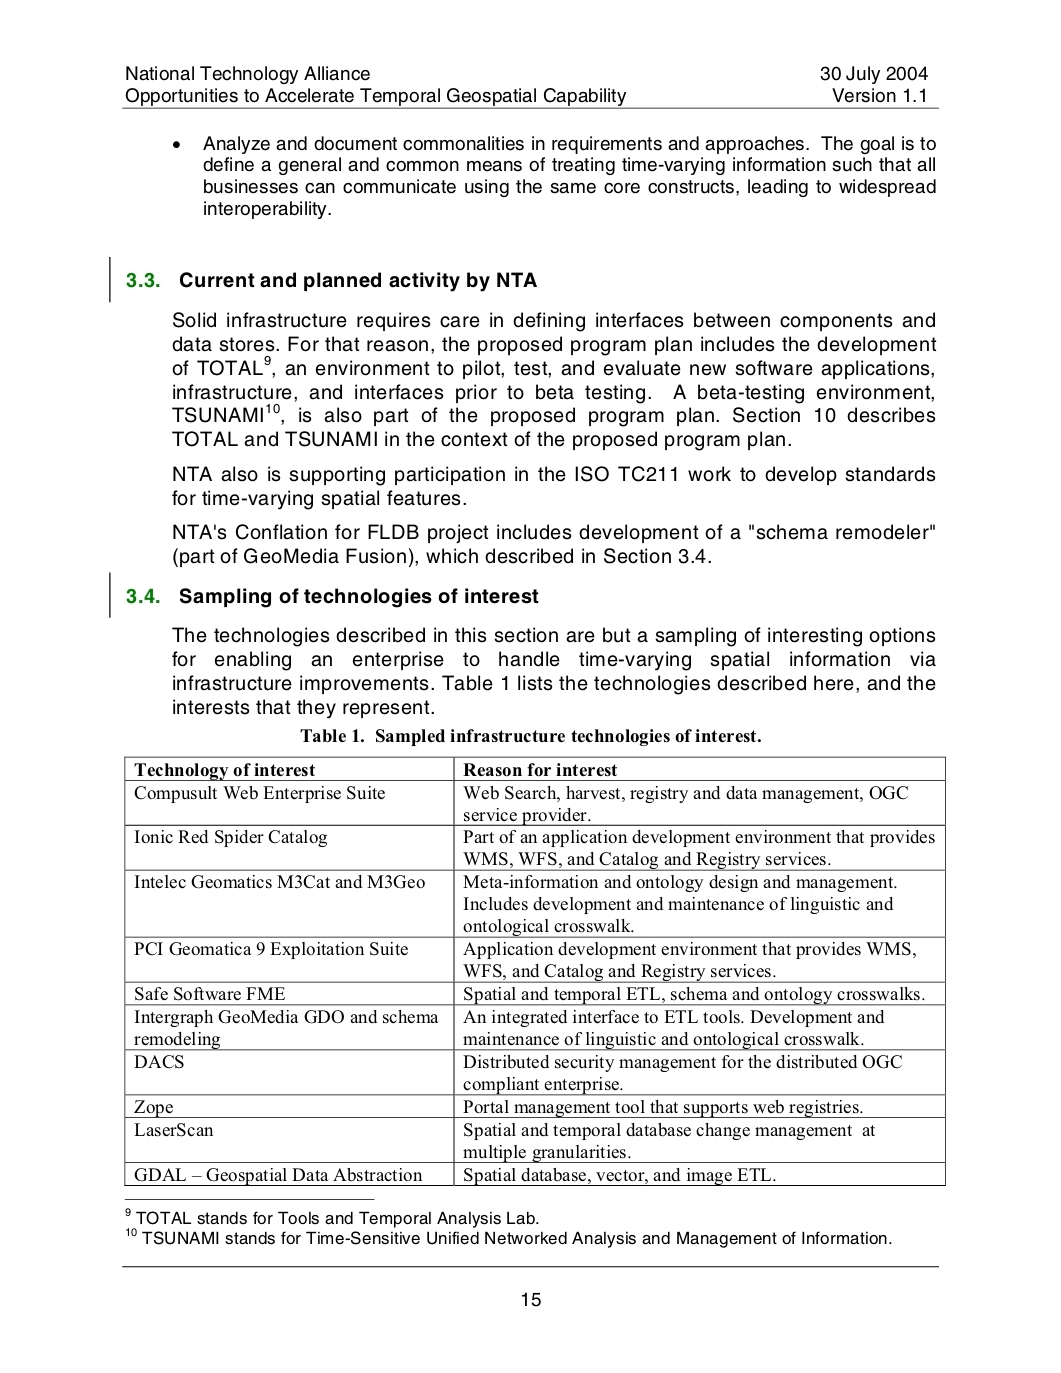Table: (124, 754, 945, 1186)
figure: (121, 1265, 938, 1268)
